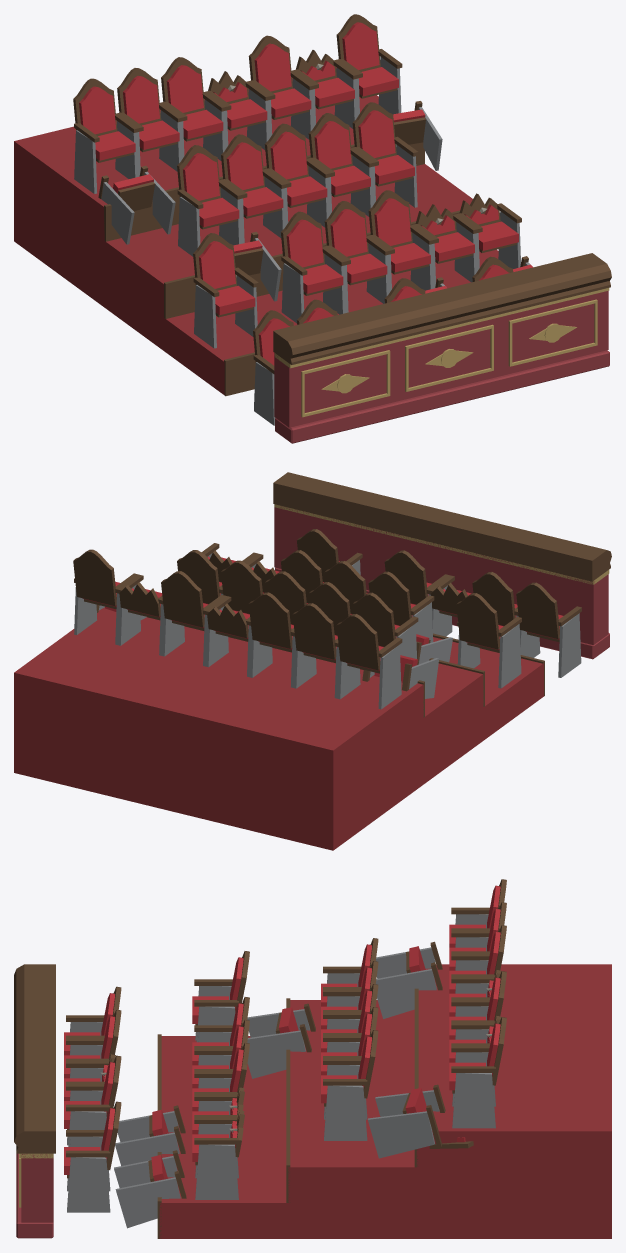
File: balcony_back.glb
The picture shows the model from 3 angles, top to bottom: view 1: azimuth 30°, elevation 25°; view 2: azimuth 150°, elevation 25°; view 3: azimuth 270°, elevation 25°; orthographic projection. The views are drawn at different scales.
Parts seen in each view (by area): view 1: dark_wood__balcony_back__solid, velvet__balcony_back__solid, carpet_red__balcony_back__solid, steel__balcony_back__solid, wall_theater__balcony_back__solid, brass__balcony_back__solid, brass__balcony_back__ns; view 2: carpet_red__balcony_back__solid, dark_wood__balcony_back__solid, steel__balcony_back__solid, wall_theater__balcony_back__solid, brass__balcony_back__solid, velvet__balcony_back__solid; view 3: carpet_red__balcony_back__solid, steel__balcony_back__solid, dark_wood__balcony_back__solid, velvet__balcony_back__solid, wall_theater__balcony_back__solid.
Part boxes in pixels (x1,y1,x2,y2): dark_wood__balcony_back__solid: (73, 14, 611, 396); velvet__balcony_back__solid: (79, 22, 532, 365); carpet_red__balcony_back__solid: (14, 67, 498, 395); steel__balcony_back__solid: (74, 56, 530, 425); wall_theater__balcony_back__solid: (274, 290, 609, 443); brass__balcony_back__solid: (274, 288, 609, 417); brass__balcony_back__ns: (321, 325, 576, 391); carpet_red__balcony_back__solid: (14, 607, 543, 850); dark_wood__balcony_back__solid: (73, 472, 611, 717); steel__balcony_back__solid: (74, 553, 581, 709); wall_theater__balcony_back__solid: (274, 506, 609, 659); brass__balcony_back__solid: (274, 504, 609, 584); velvet__balcony_back__solid: (83, 556, 563, 682); carpet_red__balcony_back__solid: (159, 964, 611, 1238); steel__balcony_back__solid: (67, 914, 495, 1228); dark_wood__balcony_back__solid: (14, 879, 506, 1238); velvet__balcony_back__solid: (64, 885, 500, 1181); wall_theater__balcony_back__solid: (16, 1153, 53, 1238).
Size of the model in its own units: 4.06 by 2.31 by 6.05.
